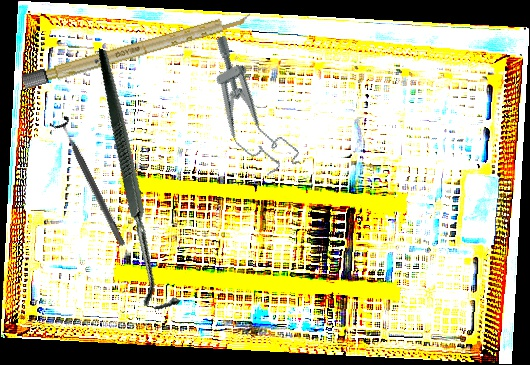Fixation Ring: (48, 113, 133, 251)
Hook Surgical: (34, 48, 241, 315)
Scalpel Handle: (20, 9, 254, 90)
Speculum: (188, 30, 304, 185)
